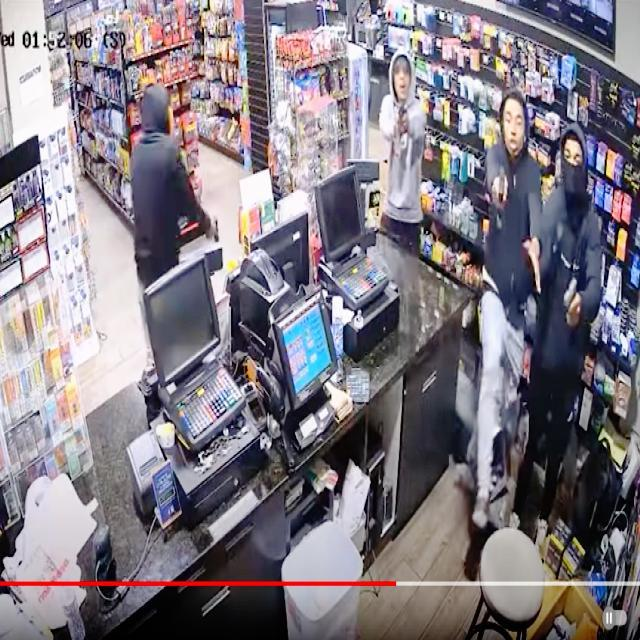Gun: (562, 246, 592, 322), (490, 164, 513, 212), (394, 104, 418, 138)
